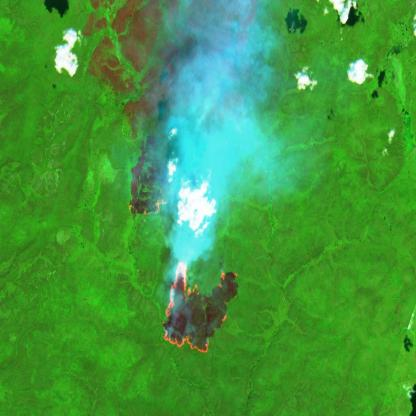fire: (159, 254, 241, 359), (127, 192, 170, 218)
